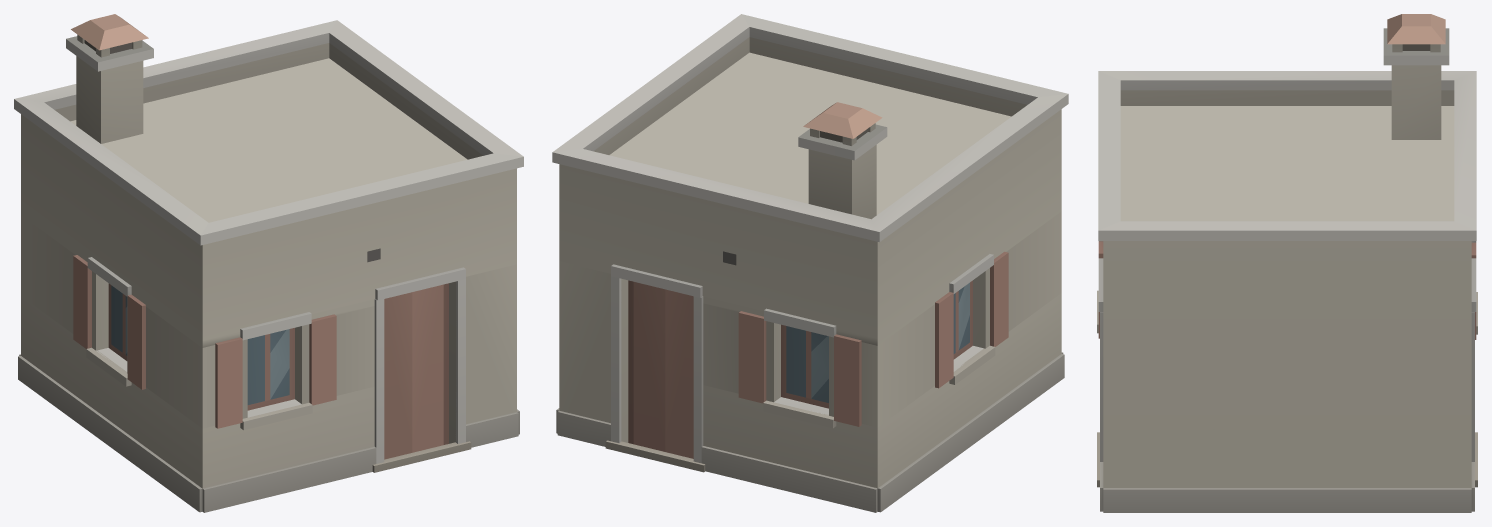
The picture shows the model from 3 angles, left to right: view 1: azimuth 30°, elevation 25°; view 2: azimuth 150°, elevation 25°; view 3: azimuth 270°, elevation 25°; orthographic projection.
Size of the model in its own units: 4.41 by 4.7 by 4.43.
